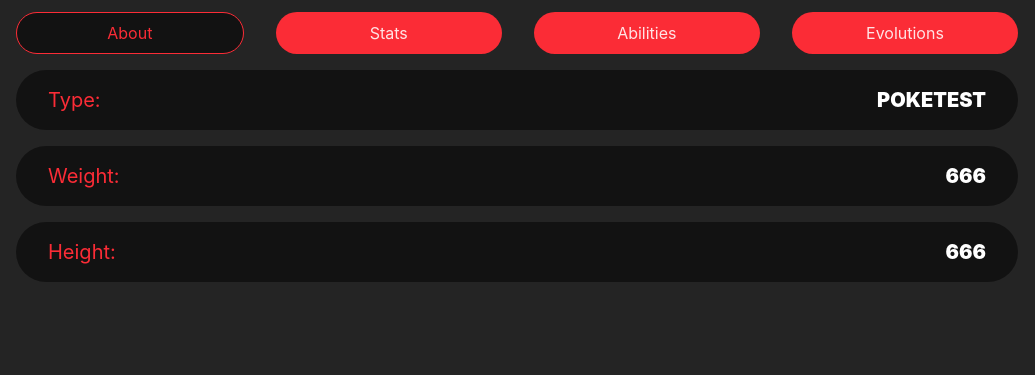
Should show about content when click on about
The width and height of the screenshot is (1035, 375).
What coordinates should you click on to do the following:
click the button "Stats"
I would click on:
 (389, 33)
Its box is [276,12,502,54].
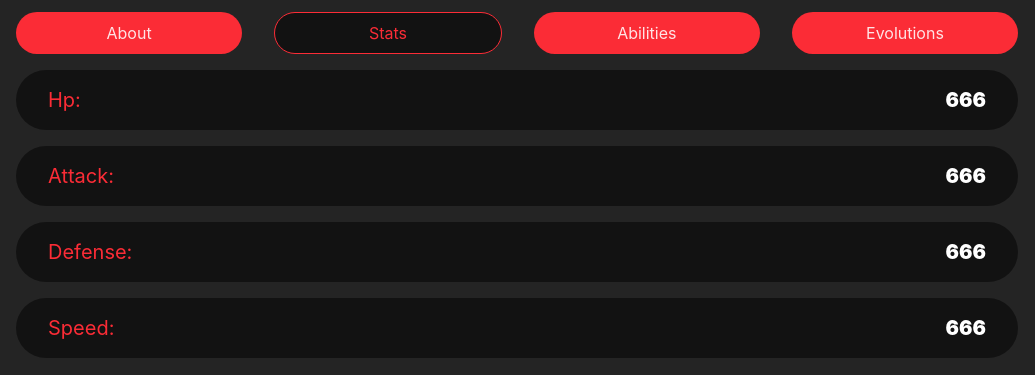
What coordinates should you click on to do the following:
click the button "About"
I would click on:
 (129, 33)
Its box is [16,12,242,54].
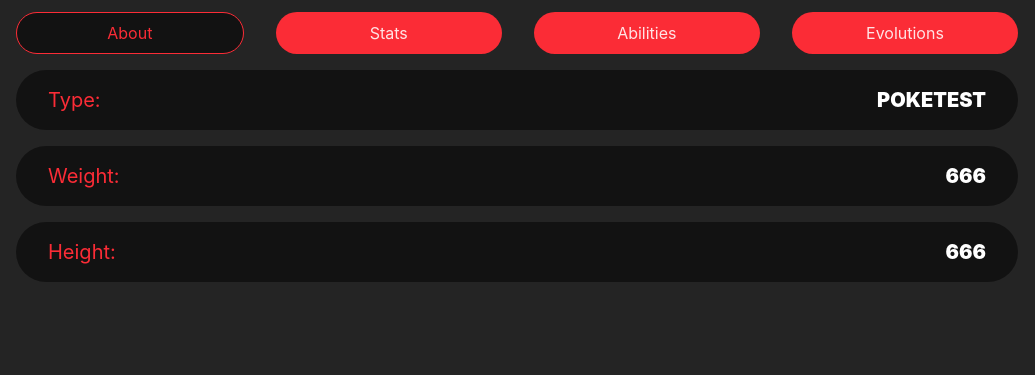
Check: the heading "type:" is shown, box [48,86,101,114]
